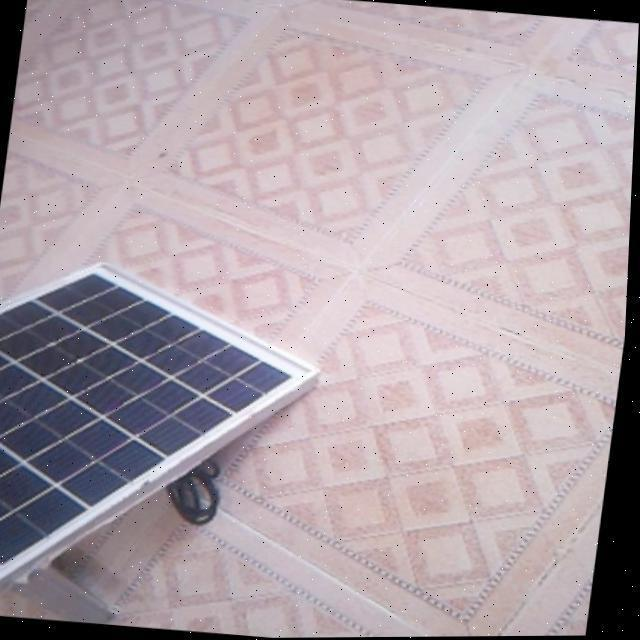Normal Solar Panel: (0, 254, 331, 640)
